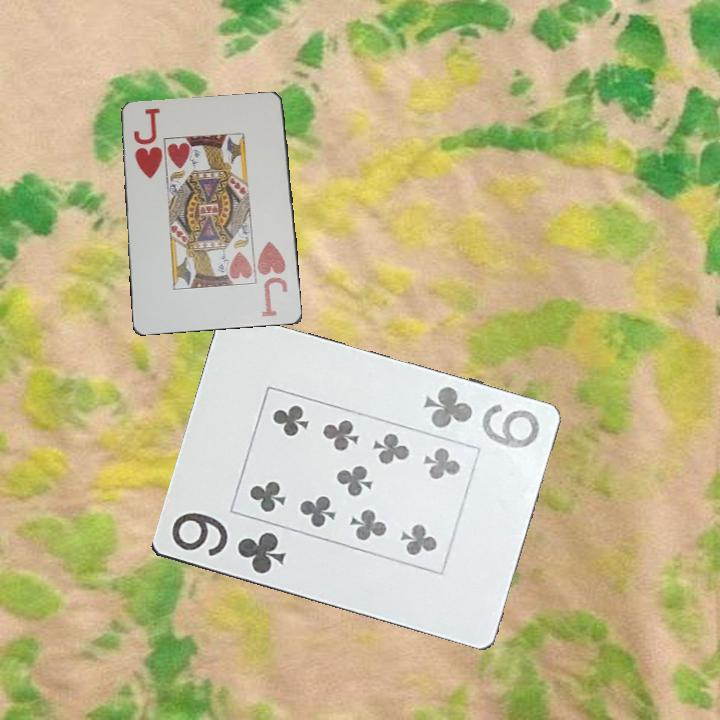9c: (419, 383, 543, 452), (167, 509, 289, 578)
Jh: (255, 238, 291, 320), (130, 105, 163, 183)
